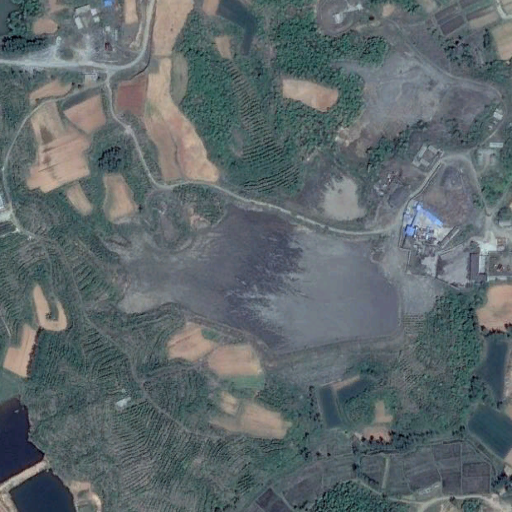tp: (103, 196, 399, 351)
